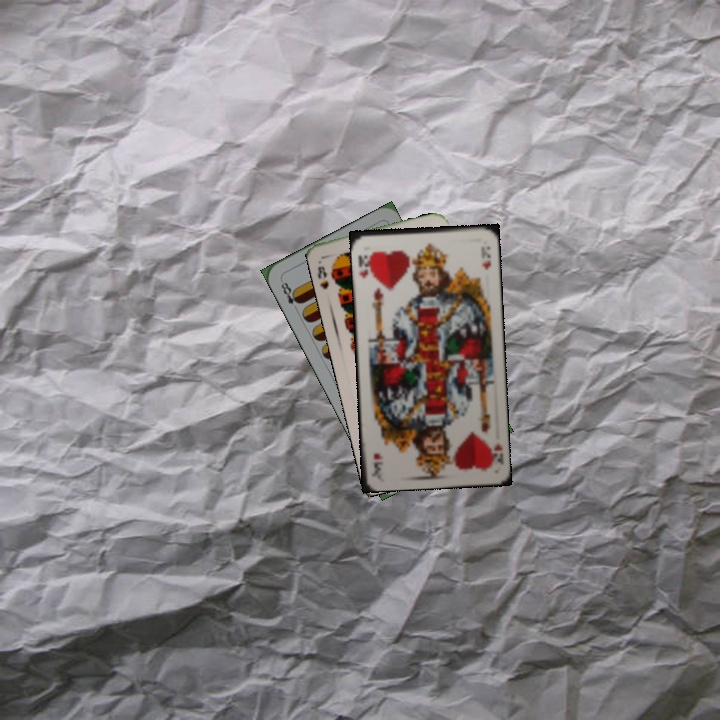E8: (277, 276, 304, 314)
HK: (354, 247, 375, 281), (484, 438, 505, 467)
S8: (314, 262, 331, 292)
